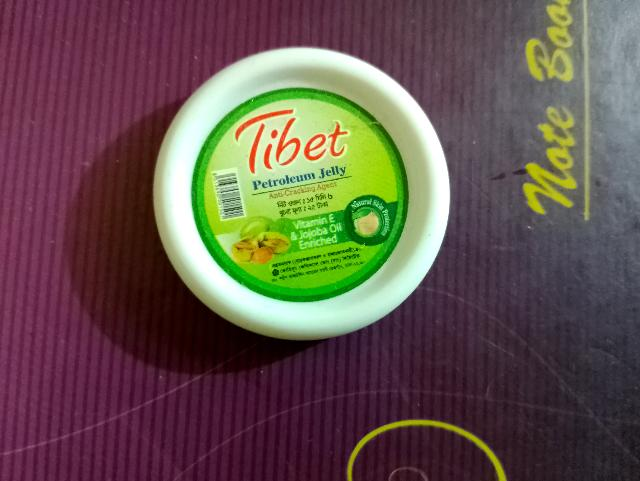hardplastic: (146, 37, 467, 346)
